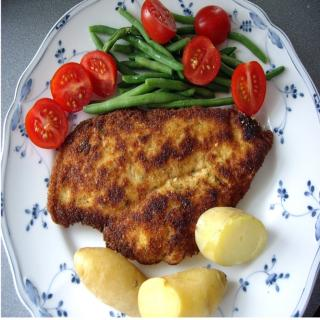tomato: (49, 61, 93, 114), (24, 99, 67, 147), (231, 60, 267, 115), (182, 36, 220, 86), (81, 49, 117, 100), (140, 0, 177, 43), (195, 4, 231, 46)
